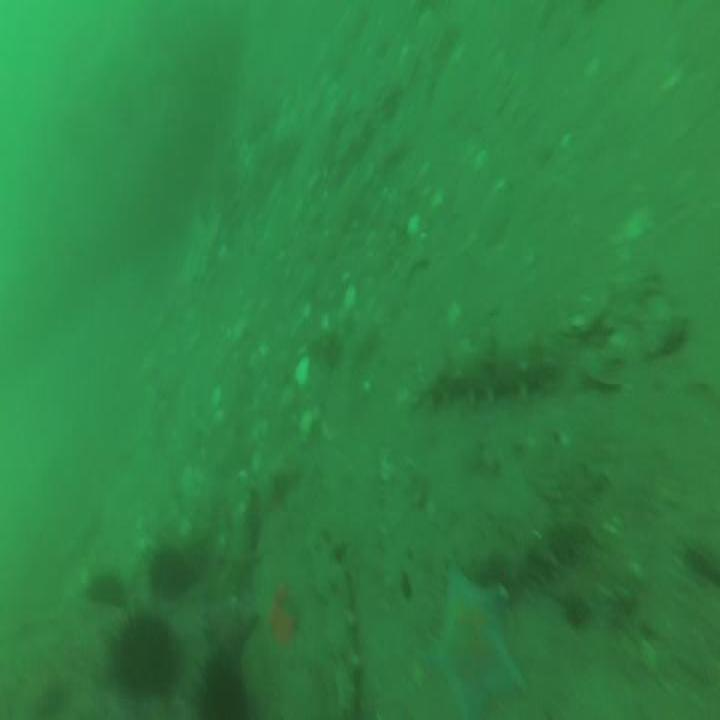echinus: (113, 622, 176, 700), (198, 663, 247, 720), (149, 548, 192, 599), (87, 569, 123, 604)
holothurian: (307, 530, 364, 716), (412, 343, 555, 411), (470, 526, 590, 588), (218, 481, 259, 602)
starfish: (422, 570, 526, 716), (200, 596, 254, 656)
